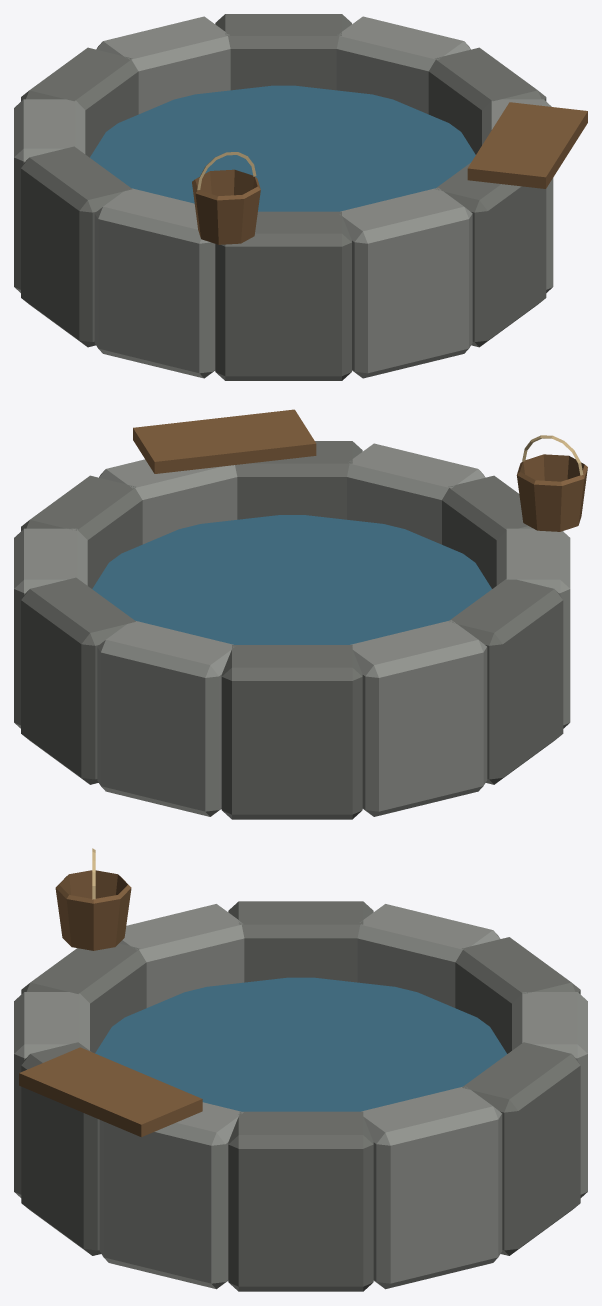
File: spring.glb
The picture shows the model from 3 angles, top to bottom: view 1: azimuth 30°, elevation 25°; view 2: azimuth 150°, elevation 25°; view 3: azimuth 270°, elevation 25°; orthographic projection. The views are drawn at different scales.
Visible parts, largest first — view 1: spring; view 2: spring; view 3: spring.
Part boxes in pixels (x1=…): spring: x1=14, y1=14, x2=587, y2=380; spring: x1=14, y1=409, x2=587, y2=819; spring: x1=14, y1=848, x2=587, y2=1291.
Size of the model in its own units: 1.66 by 0.7752 by 1.66.
